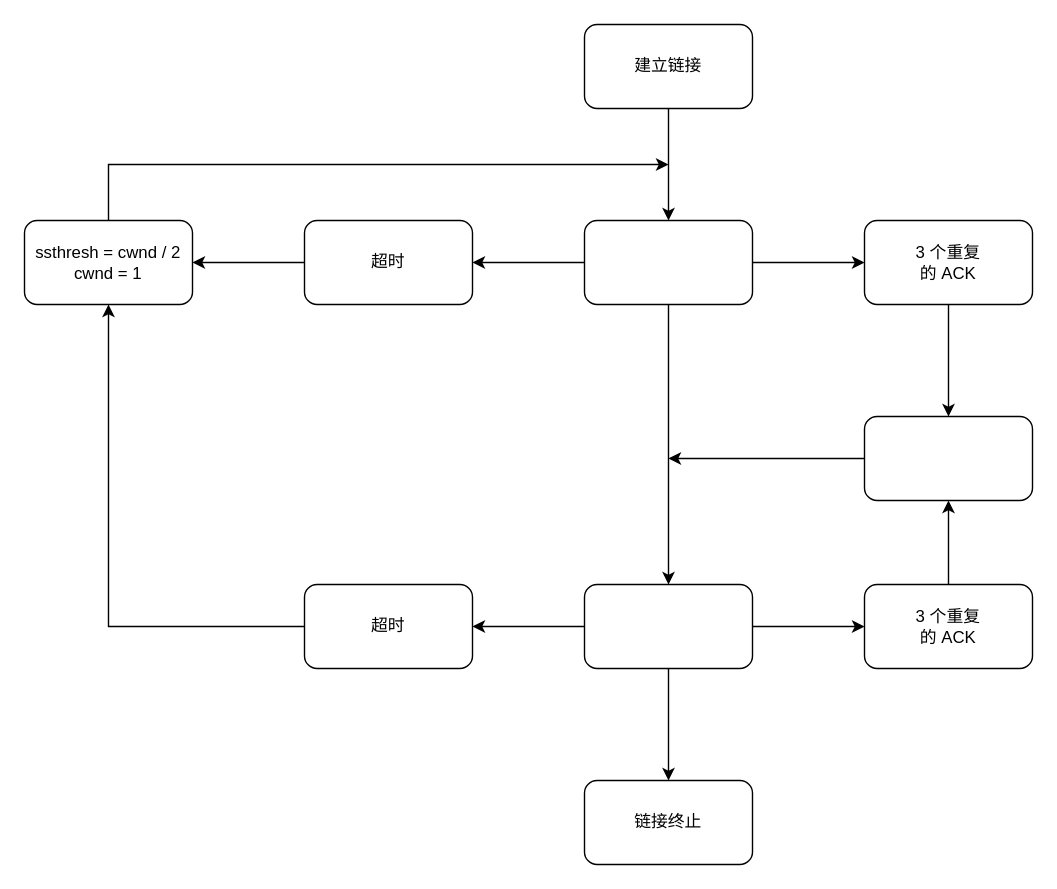
Some shapes in this 1057 by 889 pixel diagram are drawn without their labels. Here are the shapes that lost their labels. From the top down, the centre of each, then its label:
At [667,261]: "慢开始 拥塞窗口 cwnd = 1 按指数规律增大 cwnd > sthresh".
At [947,457]: "ssthresh = cwnd / 2 cwnd = ssthresh".
At [667,625]: "拥塞避免 拥塞窗口 cwnd 按线性规律增大".
